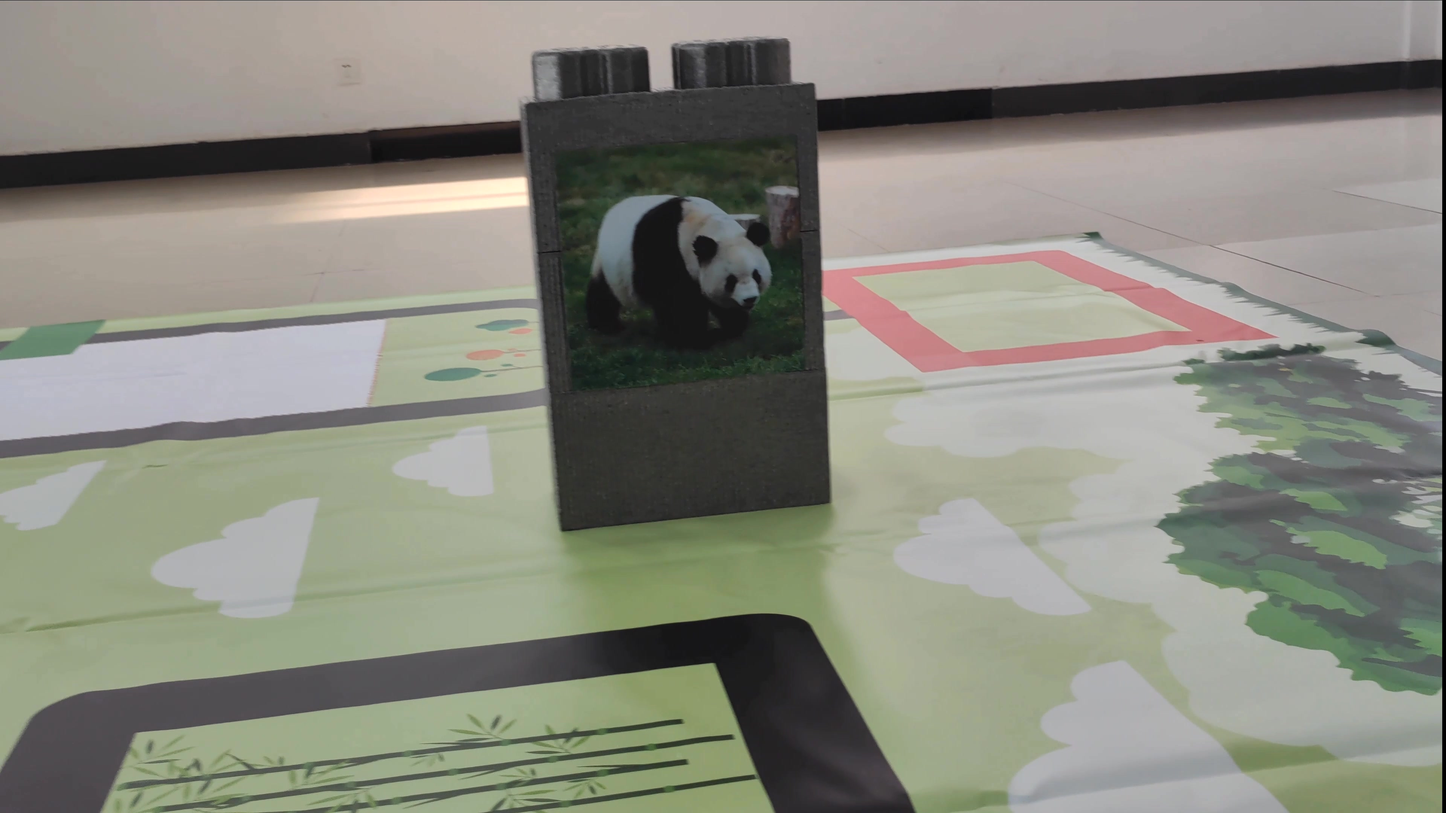panda: (567, 178, 799, 351)
